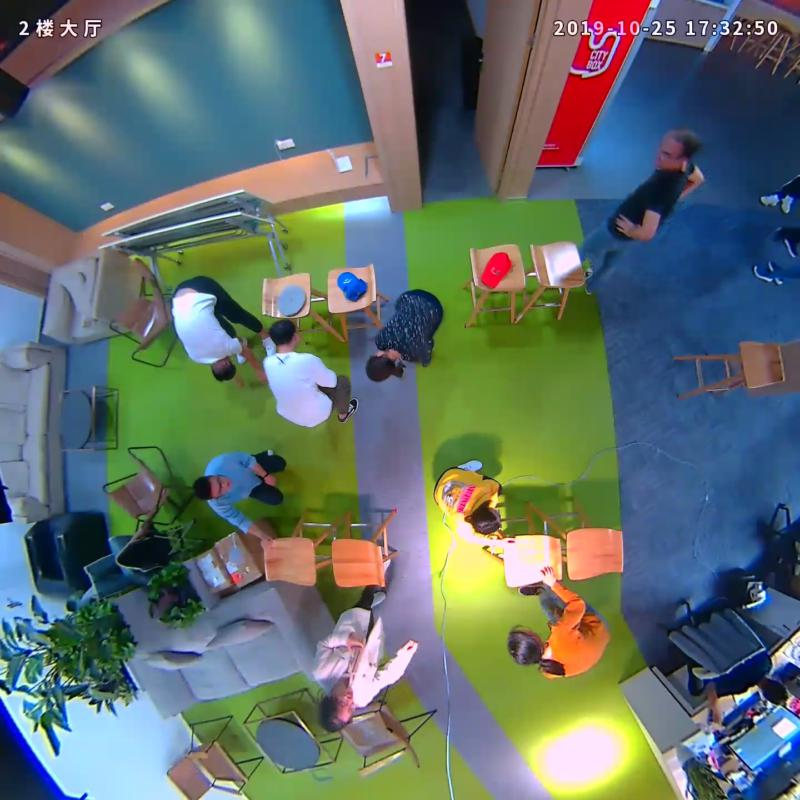head: (309, 677, 365, 739), (649, 121, 708, 178), (502, 619, 548, 672), (188, 470, 241, 504), (467, 498, 507, 539), (360, 346, 402, 383), (203, 354, 239, 389), (264, 316, 302, 349)
